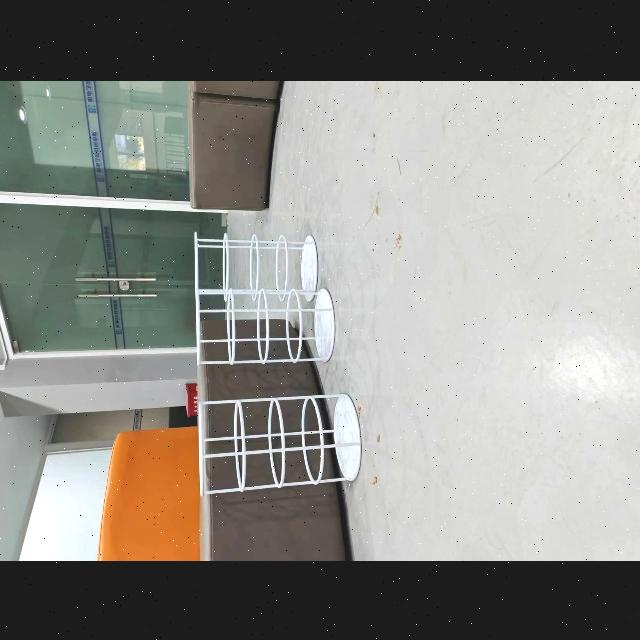S: (198, 394, 362, 494), (193, 287, 334, 363), (188, 226, 322, 304)
